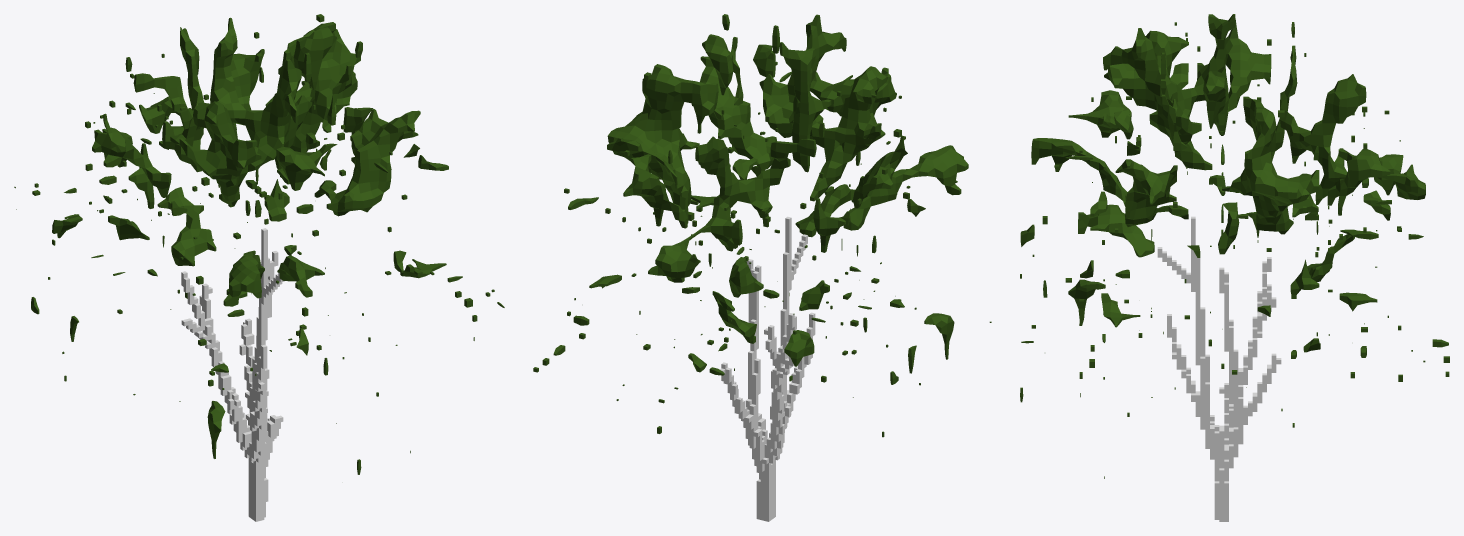
File: Large bush low resolution.fbx
The picture shows the model from 3 angles, left to right: view 1: azimuth 30°, elevation 25°; view 2: azimuth 150°, elevation 25°; view 3: azimuth 270°, elevation 25°; orthographic projection. The views are drawn at different scales.
Visible parts, largest first — view 1: leaves.003, tree.003 done; view 2: leaves.003, tree.003 done; view 3: leaves.003, tree.003 done.
Part boxes in pixels (bbox=[...]): leaves.003: bbox=[14, 14, 504, 474]; tree.003 done: bbox=[181, 228, 284, 521]; leaves.003: bbox=[533, 14, 991, 437]; tree.003 done: bbox=[720, 216, 815, 521]; leaves.003: bbox=[1020, 14, 1449, 478]; tree.003 done: bbox=[1157, 216, 1281, 521].
Size of the model in its own units: 877 by 1152 by 908.
